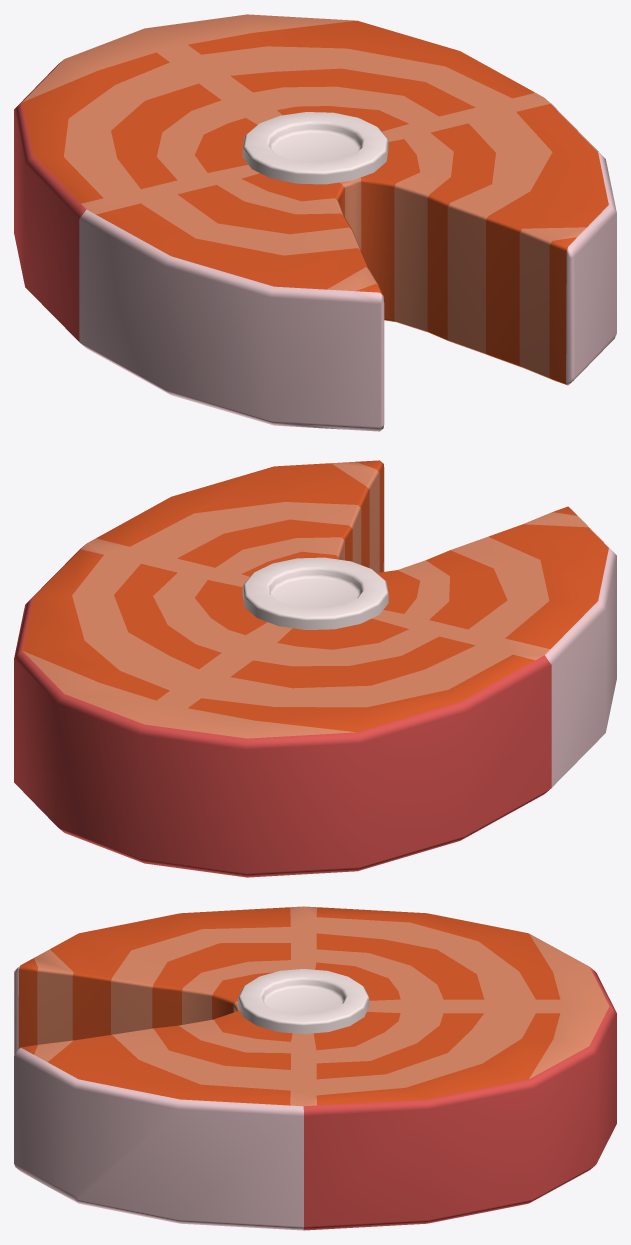
File: Salmon_3_Steak_1.fbx
3 views of the same model, one above another, from view 1: azimuth 30°, elevation 25°; view 2: azimuth 150°, elevation 25°; view 3: azimuth 270°, elevation 25° (orthographic). The views are drawn at different scales.
Visible parts, largest first — view 1: Salmon_3_Steak_1; view 2: Salmon_3_Steak_1; view 3: Salmon_3_Steak_1.
Boxes of the visible parts, left/top/right/bottom form: Salmon_3_Steak_1: left=14, top=14, right=616, bottom=431; Salmon_3_Steak_1: left=14, top=460, right=616, bottom=877; Salmon_3_Steak_1: left=14, top=906, right=616, bottom=1230.
Size of the model in its own units: 20.5 by 6.79 by 25.36.
